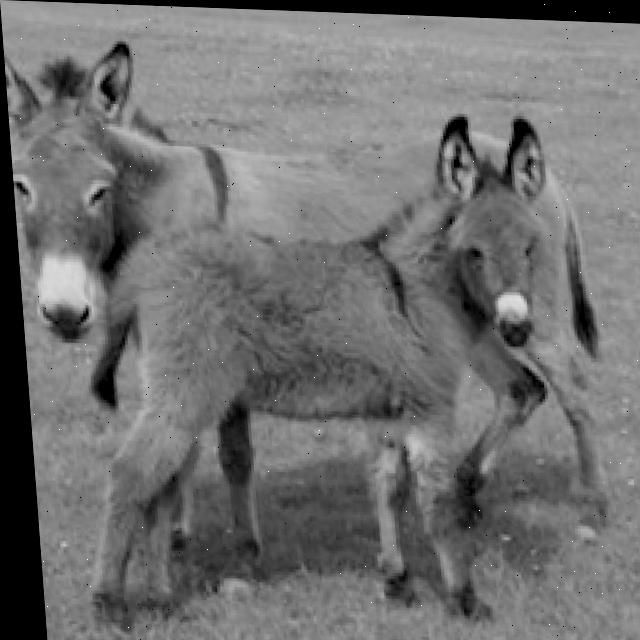Donkey: (3, 37, 617, 561)
